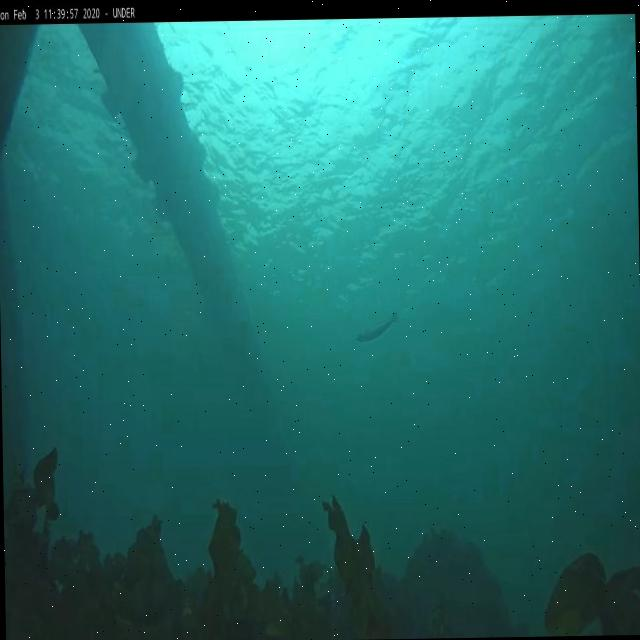fish: (357, 312, 398, 343)
